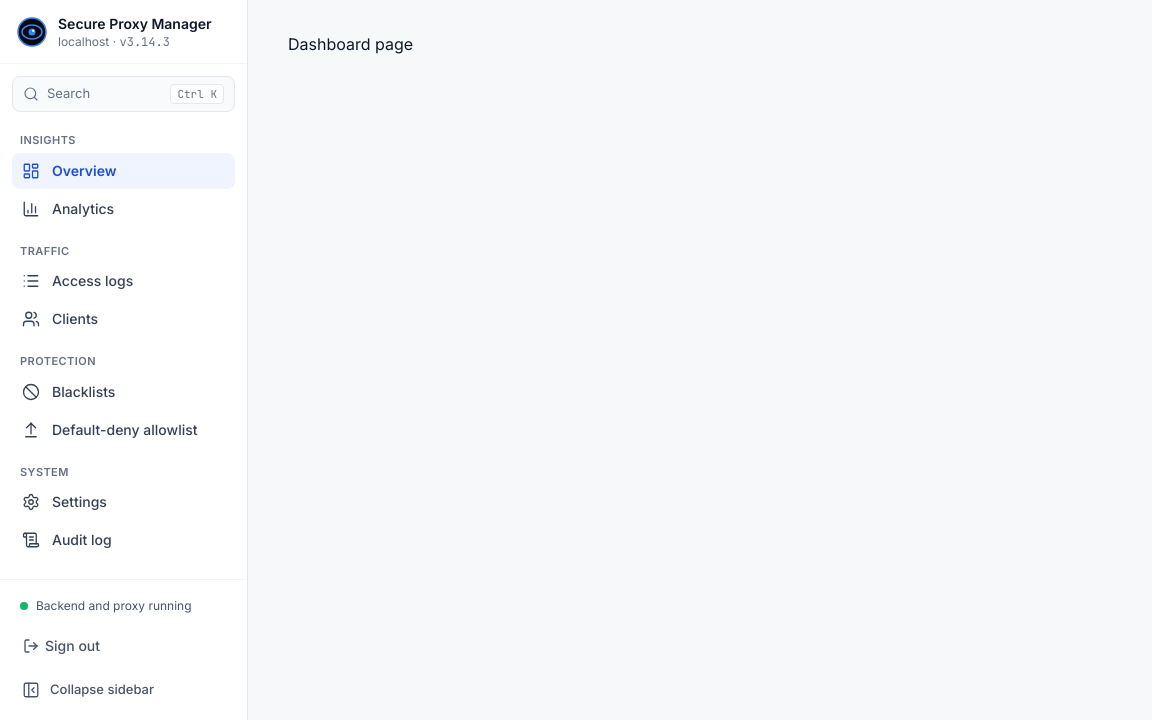
Test: shell on a wide screen › opens the global search from the Search button
The image size is (1152, 720).
What coordinates should you click on to do the following:
click the button "Search Ctrl K"
I would click on:
 (124, 94)
Its box is [12,76,235,112].
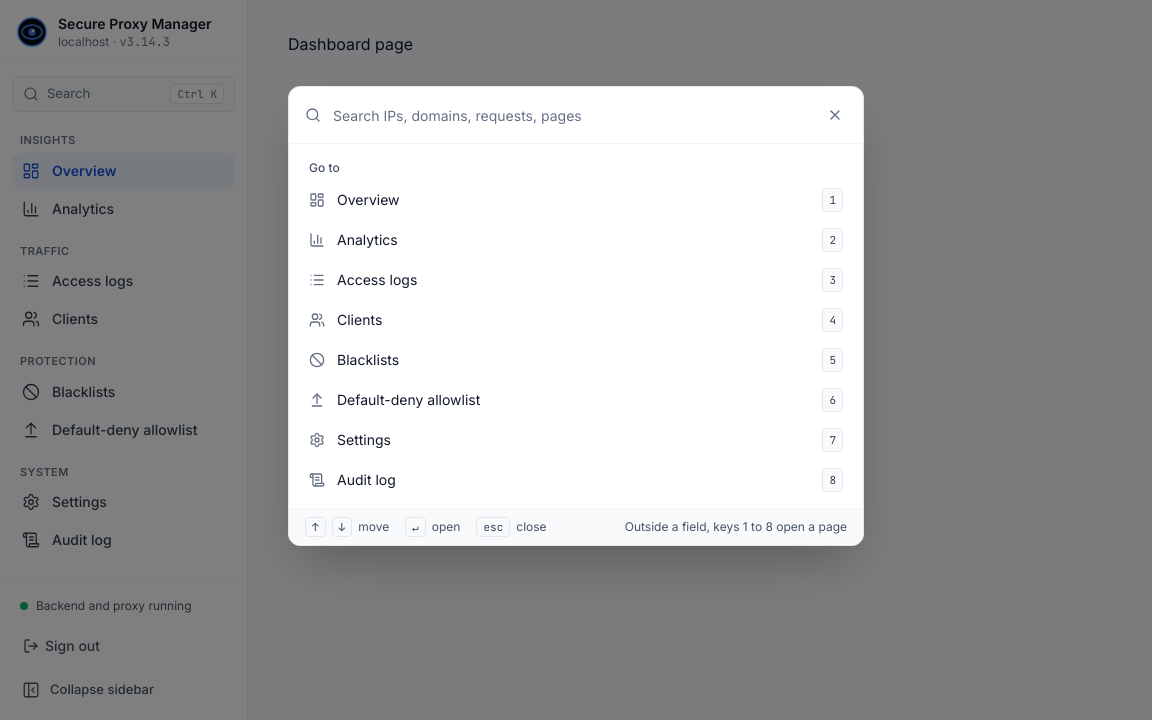
Result: the dialog named "Global search" is shown
